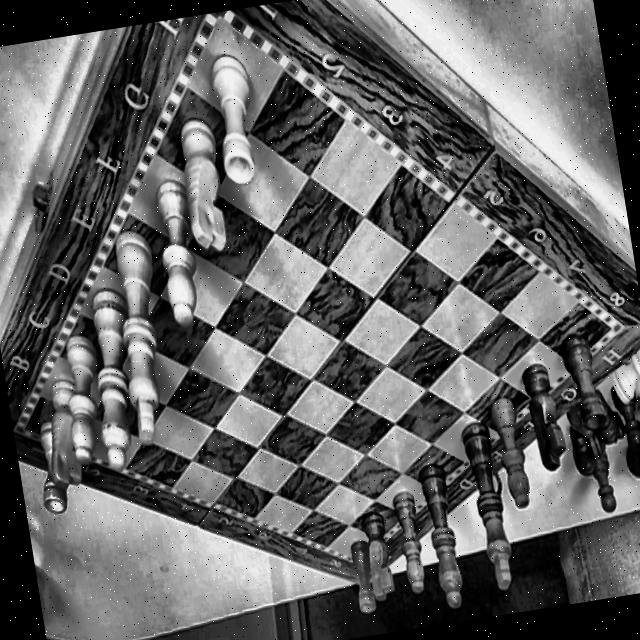black-bishop: (486, 375, 538, 519), (384, 488, 436, 604)
black-king: (458, 402, 522, 598)
black-knight: (514, 340, 574, 490), (357, 480, 401, 614)
black-queen: (416, 432, 472, 620)
black-rook: (558, 324, 610, 431), (342, 540, 380, 620)
